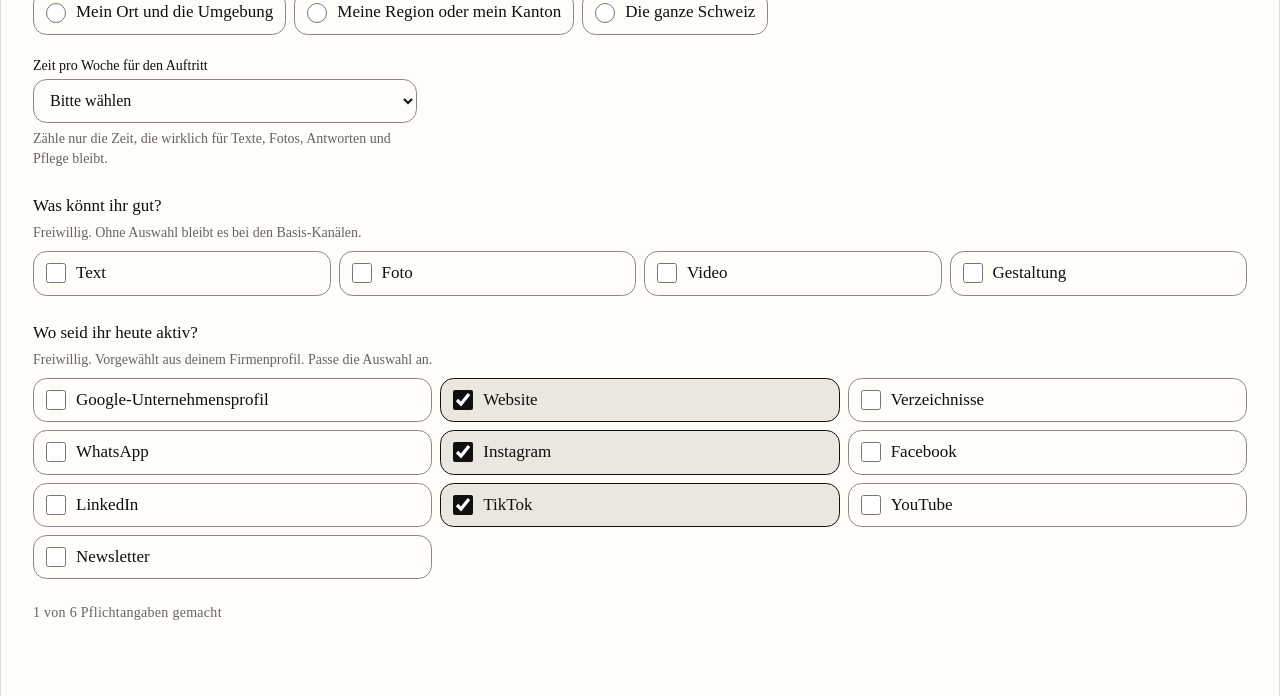
Test: Kanalstrategie: Formular › füllt Firma, Branche und die heutigen Kanäle aus dem Profil vor und lässt die Person sie ändern
This screenshot has width=1280, height=696.
(page scrolled)
Expected: the text "Vorgewählt aus deinem Firmenprofil" is shown, [33,352,432,367]
Click the checkbox labelled "Website".
click(463, 400)  # box [453,390,473,410]
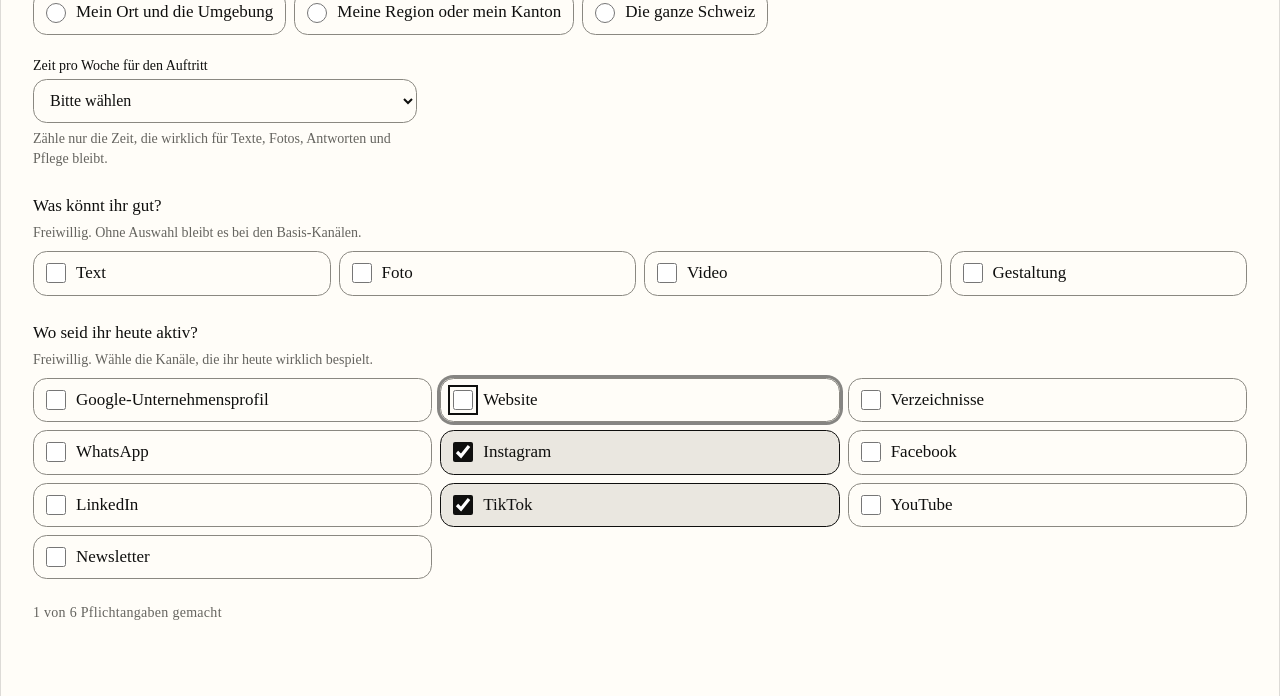
Now the text "Vorgewählt aus deinem Firmenprofil" is gone
